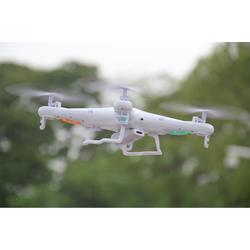drone: (7, 83, 240, 157)
